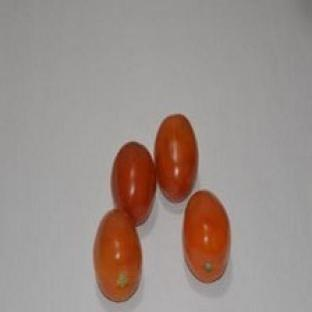Tomato: (94, 209, 142, 302), (183, 191, 231, 282), (155, 115, 197, 201), (112, 143, 155, 225)
